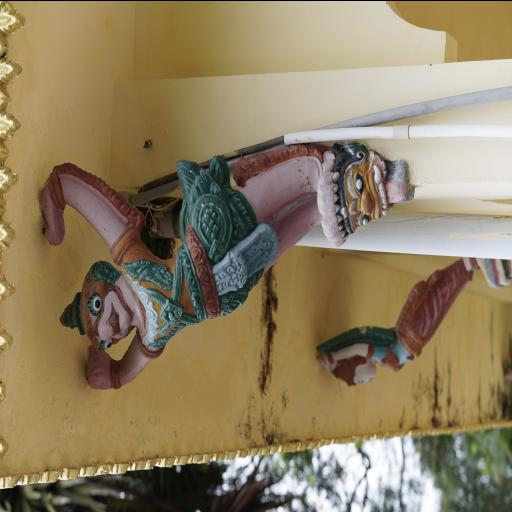than: (28, 112, 416, 372), (301, 236, 503, 407)
